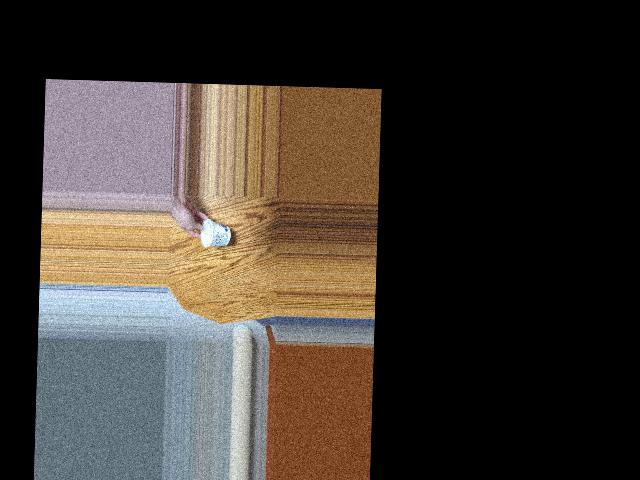cotage: (195, 217, 227, 250)
